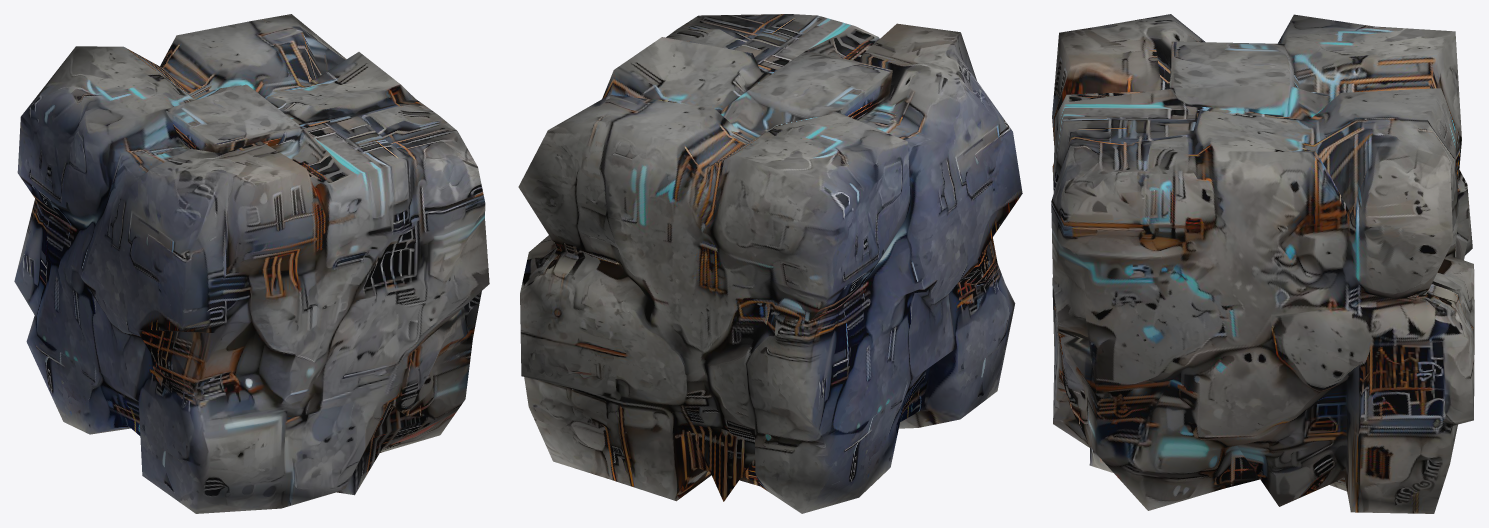
File: Debris_Pillar.obj
3 views of the same model, side by side, from view 1: azimuth 30°, elevation 25°; view 2: azimuth 150°, elevation 25°; view 3: azimuth 270°, elevation 25° (orthographic). The views are drawn at different scales.
Visible parts, largest first — view 1: tripo_node_d05c8c3f-20e2-49ec-b620-aa98764917e3; view 2: tripo_node_d05c8c3f-20e2-49ec-b620-aa98764917e3; view 3: tripo_node_d05c8c3f-20e2-49ec-b620-aa98764917e3.
Part boxes in pixels (<box>): tripo_node_d05c8c3f-20e2-49ec-b620-aa98764917e3: <box>14,14,489,513</box>; tripo_node_d05c8c3f-20e2-49ec-b620-aa98764917e3: <box>518,14,1022,513</box>; tripo_node_d05c8c3f-20e2-49ec-b620-aa98764917e3: <box>1051,14,1474,513</box>.
Bounding box in the file's own units: 0.8586 × 0.9025 × 0.9069.
1 material, 1 textured.
